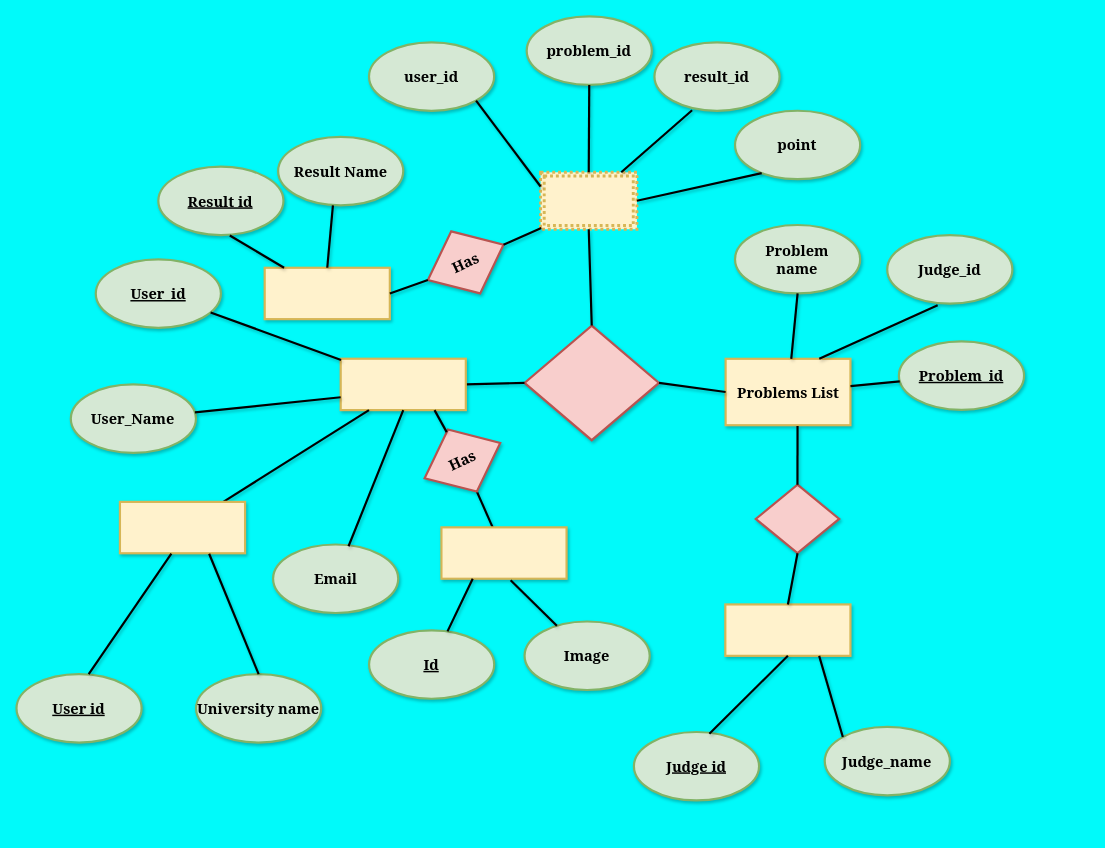
Image size: 1105x848. Some labels were removed from this diagram. Here are the shapes that lost their labels. From the top down, the centre of each, then its label:
At point (588, 200): "Submission".
At point (327, 294): "Result_Type".
At point (403, 385): "User".
At point (592, 383): "Submit".
At point (183, 528): "University".
At point (797, 519): "From".
At point (504, 554): "Images".
At point (788, 631): "Online Judge List".
